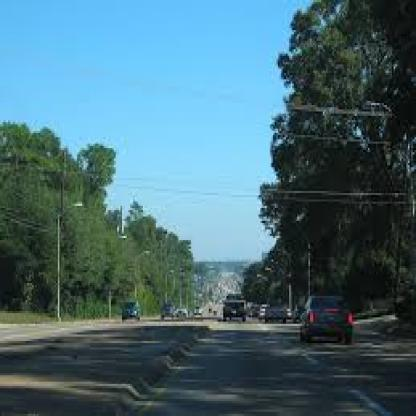car: (293, 296, 357, 346), (112, 288, 146, 328), (222, 287, 252, 328), (266, 299, 292, 328), (159, 294, 176, 322)
